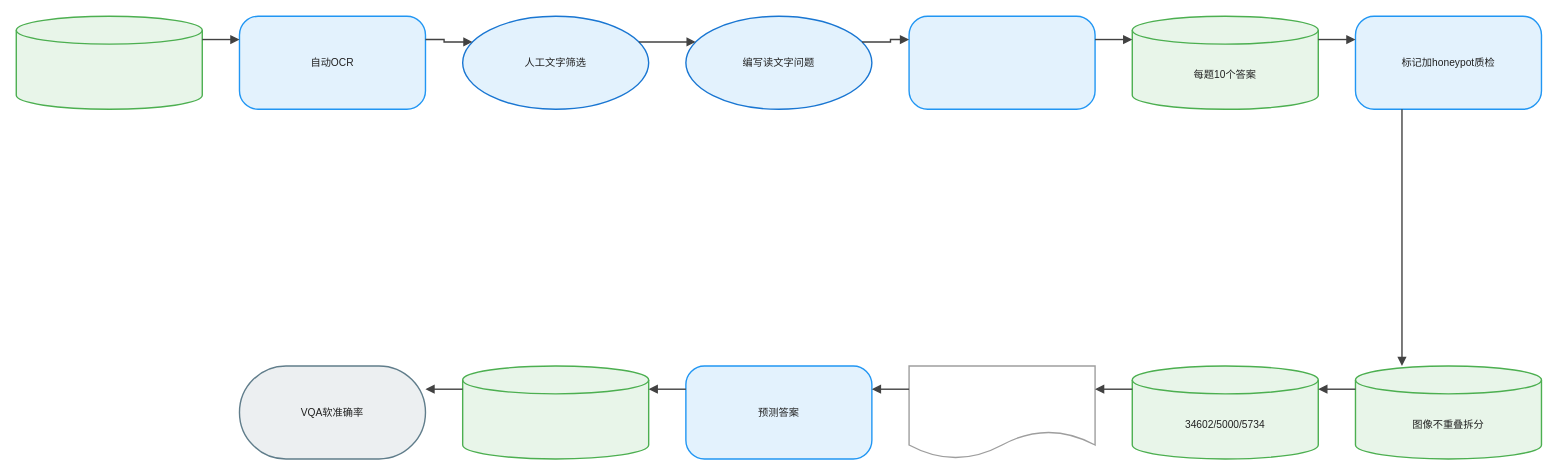
Image size: 1559x476. Some labels were removed from this diagram. Here are the shapes that lost their labels. From the top down, the centre of each, then its label:
(109,62): Open Images
(1001,62): 第二题问答均不同
(555,412): 10个人类答案
(1001,412): 图像加问题加OCR
